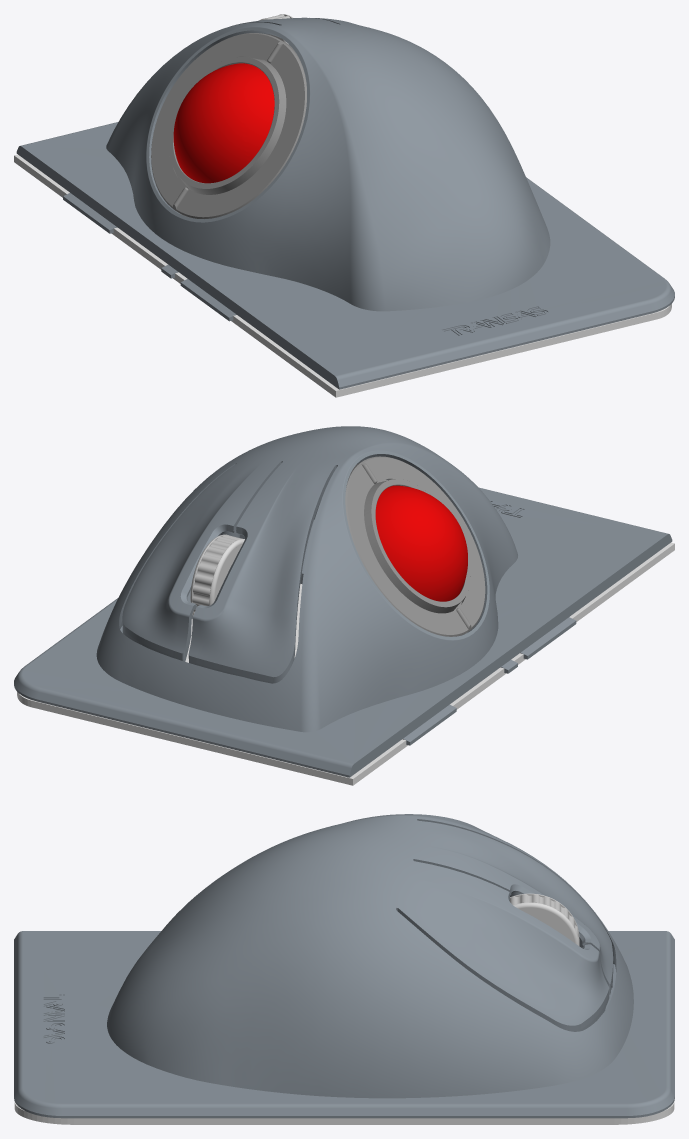
Rendered from trackball.glb.
3 views of the same model, one above another, from view 1: azimuth 30°, elevation 25°; view 2: azimuth 150°, elevation 25°; view 3: azimuth 270°, elevation 25° (orthographic). The views are drawn at different scales.
Visible parts, largest first — view 1: COC00002506_coc00002506:ral 7011 iron grey:64:74:84_0, COC00002579_coc00002579:ral 7011 iron grey:64:74:84_0, COC00002512_coc00002512:plastic-matte-grey:74:74:74_0, COC00002736_coc00002736:paint-metallic-red:200:0:0_0, Cube, COC00002511_coc00002511:<plastic-matte-grey>:74:74:74_0; view 2: COC00002506_coc00002506:ral 7011 iron grey:64:74:84_0, COC00002579_coc00002579:ral 7011 iron grey:64:74:84_0, COC00002736_coc00002736:paint-metallic-red:200:0:0_0, COC00002512_coc00002512:plastic-matte-grey:74:74:74_0, Cube, COC00002511_coc00002511:<plastic-matte-grey>:74:74:74_0, COC00002509_coc00002509:grey plastic soft:144:144:144_0, COC00002509_coc00002509:grey plastic flat:175:175:175_0; view 3: COC00002506_coc00002506:ral 7011 iron grey:64:74:84_0, COC00002579_coc00002579:ral 7011 iron grey:64:74:84_0, Cube, COC00002509_coc00002509:grey plastic flat:175:175:175_0, COC00002509_coc00002509:grey plastic soft:144:144:144_0.
Boxes of the visible parts, bbox=[...] form: COC00002506_coc00002506:ral 7011 iron grey:64:74:84_0: bbox=[106, 17, 550, 311]; COC00002579_coc00002579:ral 7011 iron grey:64:74:84_0: bbox=[16, 122, 674, 389]; COC00002512_coc00002512:plastic-matte-grey:74:74:74_0: bbox=[151, 33, 306, 218]; COC00002736_coc00002736:paint-metallic-red:200:0:0_0: bbox=[173, 63, 274, 183]; Cube: bbox=[14, 154, 671, 397]; COC00002511_coc00002511:<plastic-matte-grey>:74:74:74_0: bbox=[168, 56, 286, 194]; COC00002506_coc00002506:ral 7011 iron grey:64:74:84_0: bbox=[96, 426, 517, 732]; COC00002579_coc00002579:ral 7011 iron grey:64:74:84_0: bbox=[14, 487, 672, 777]; COC00002736_coc00002736:paint-metallic-red:200:0:0_0: bbox=[375, 485, 467, 601]; COC00002512_coc00002512:plastic-matte-grey:74:74:74_0: bbox=[345, 456, 485, 636]; Cube: bbox=[17, 542, 674, 785]; COC00002511_coc00002511:<plastic-matte-grey>:74:74:74_0: bbox=[364, 479, 470, 613]; COC00002509_coc00002509:grey plastic soft:144:144:144_0: bbox=[192, 534, 242, 612]; COC00002509_coc00002509:grey plastic flat:175:175:175_0: bbox=[190, 534, 244, 615]; COC00002506_coc00002506:ral 7011 iron grey:64:74:84_0: bbox=[107, 814, 633, 1098]; COC00002579_coc00002579:ral 7011 iron grey:64:74:84_0: bbox=[14, 931, 674, 1118]; Cube: bbox=[14, 1102, 674, 1124]; COC00002509_coc00002509:grey plastic flat:175:175:175_0: bbox=[510, 893, 579, 945]; COC00002509_coc00002509:grey plastic soft:144:144:144_0: bbox=[509, 894, 579, 946].
Bounding box in the file's own units: 0.0983 × 0.0528 × 0.1526.
